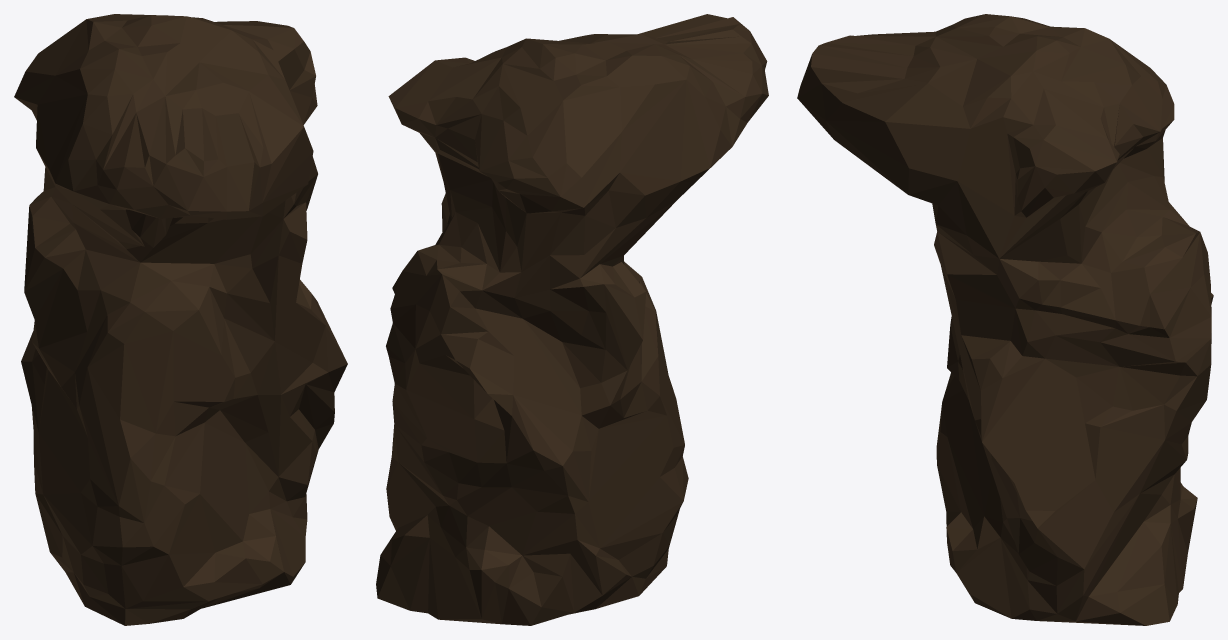
File: SM_cliff_10.FBX
The picture shows the model from 3 angles, left to right: view 1: azimuth 30°, elevation 25°; view 2: azimuth 150°, elevation 25°; view 3: azimuth 270°, elevation 25°; orthographic projection. The views are drawn at different scales.
Visible parts, largest first — view 1: Object026; view 2: Object026; view 3: Object026.
Boxes of the visible parts, box(x1,y1,x2,y2) form: Object026: box(14, 14, 347, 625); Object026: box(376, 14, 768, 625); Object026: box(797, 14, 1213, 625).
Bounding box in the file's own units: 595 × 1067 × 758.
